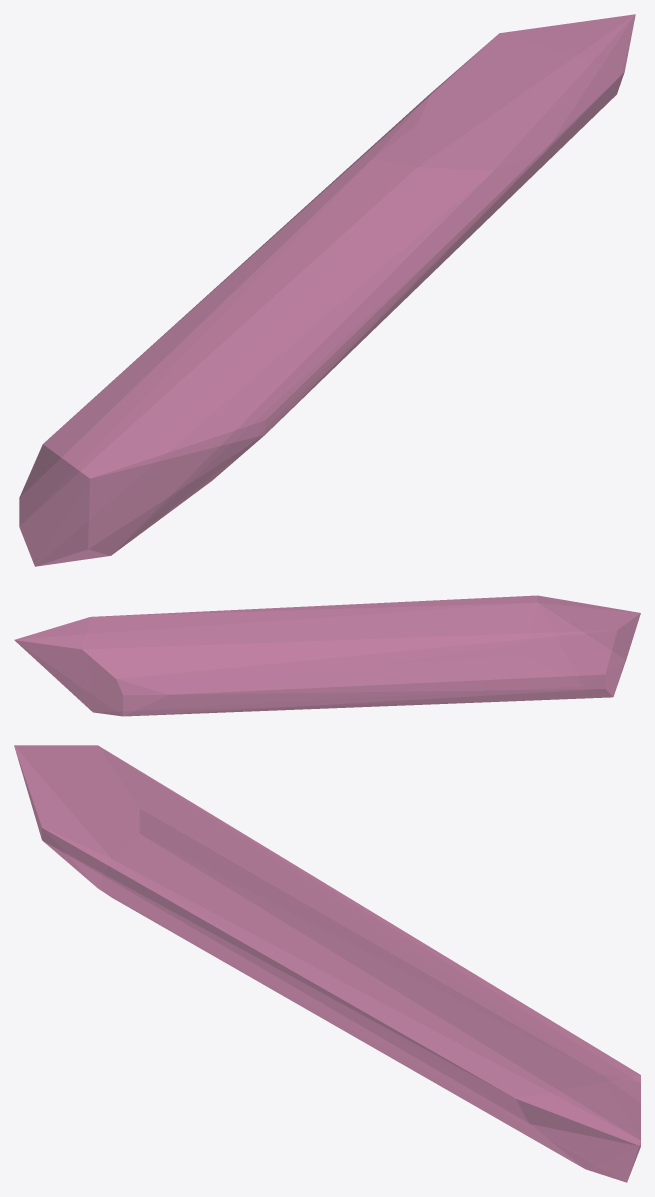
3 renders of one model, top to bottom at view 1: azimuth 30°, elevation 25°; view 2: azimuth 150°, elevation 25°; view 3: azimuth 270°, elevation 25°, orthographic. The views are drawn at different scales.
Parts seen in each view (by area): view 1: Shape_IndexedFaceSet.037_Shape_IndexedFaceSet.5928; view 2: Shape_IndexedFaceSet.037_Shape_IndexedFaceSet.5928; view 3: Shape_IndexedFaceSet.037_Shape_IndexedFaceSet.5928.
Part boxes in pixels (x1,y1,x2,y2): Shape_IndexedFaceSet.037_Shape_IndexedFaceSet.5928: (19,14,635,566); Shape_IndexedFaceSet.037_Shape_IndexedFaceSet.5928: (14,595,640,716); Shape_IndexedFaceSet.037_Shape_IndexedFaceSet.5928: (14,745,640,1182).
Bounding box in the file's own units: 0.13 × 0.0177 × 0.0886.
